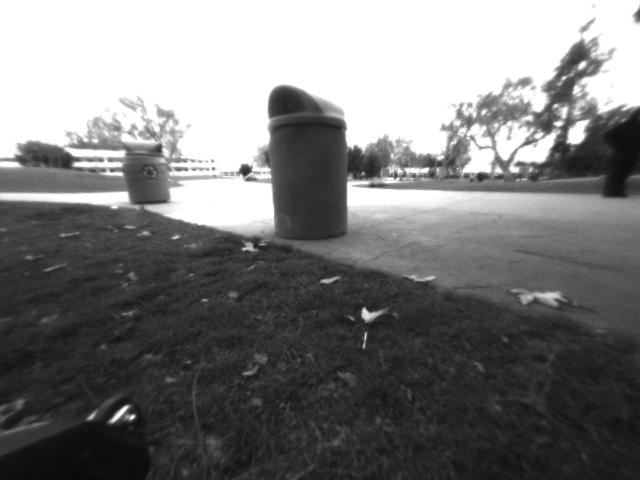trashcan: (258, 79, 363, 247)
